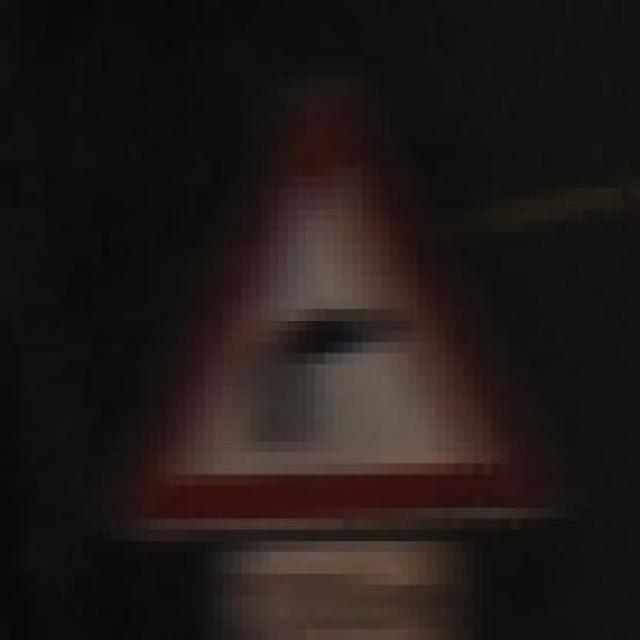Dangerous Rright Curve Ahead: (83, 88, 566, 530)
